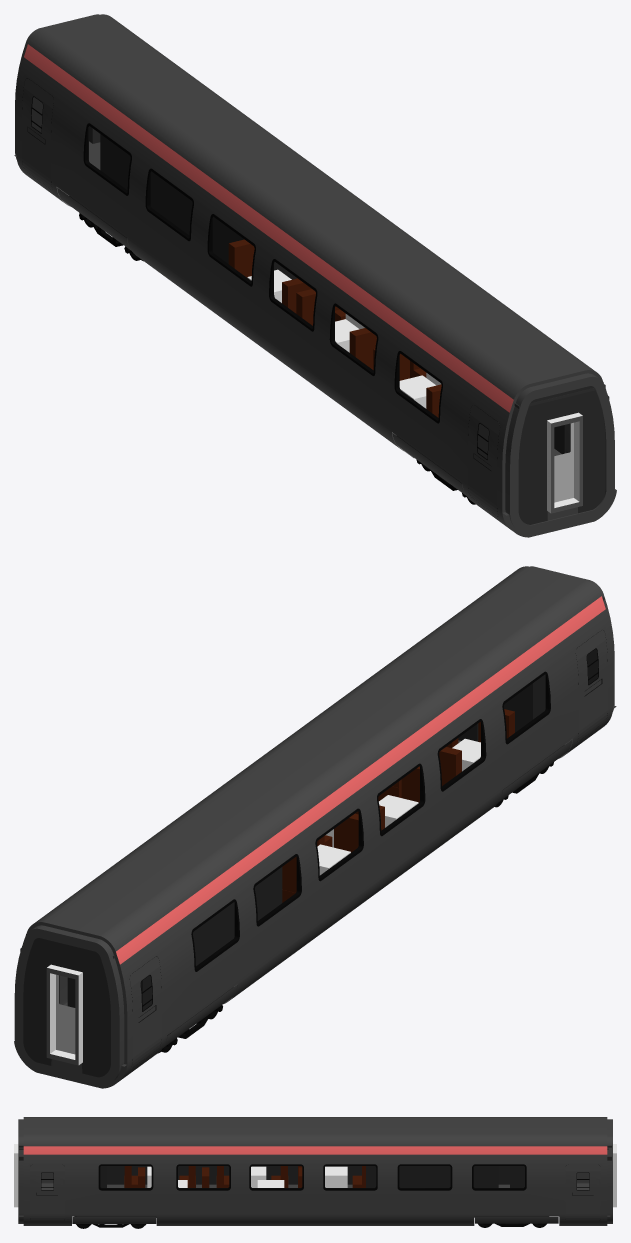
Rendered from hs_diner-car.glb.
3 renders of one model, top to bottom at view 1: azimuth 30°, elevation 25°; view 2: azimuth 150°, elevation 25°; view 3: azimuth 270°, elevation 25°, orthographic. The views are drawn at different scales.
Parts seen in each view (by area): view 1: instance_147, Box (×4), group_0, mesh_10_instance_1, mesh_10_instance_0, Box_6, Box_26, Box_29, Box_4, mesh_14_instance_0, mesh_14_instance_5, mesh_14_instance_1 (+1 smaller); view 2: instance_147, Box (×5), group_0, Box_6, mesh_10_instance_1, mesh_10_instance_0, Box_3, Box_31, mesh_14_instance_0, mesh_14_instance_1, mesh_14_instance_2, mesh_14_instance_5 (+1 smaller); view 3: instance_147, Box, mesh_10_instance_2, Box_6, mesh_10_instance_3, mesh_1_instance_0, mesh_1_instance_1, group_0 (×2), Box_28, mesh_16_instance_0, mesh_16_instance_4, mesh_16_instance_2 (+7 smaller).
Boxes of the visible parts, x1=… form: instance_147: x1=14, y1=14, x2=616, y2=537; Box (×4): x1=518, y1=389, x2=609, y2=524; group_0: x1=547, y1=412, x2=582, y2=513; mesh_10_instance_1: x1=22, y1=78, x2=53, y2=189; mesh_10_instance_0: x1=468, y1=404, x2=499, y2=516; Box_6: x1=150, y1=171, x2=243, y2=263; Box_26: x1=349, y1=328, x2=376, y2=368; Box_29: x1=228, y1=239, x2=254, y2=277; Box_4: x1=100, y1=134, x2=118, y2=182; mesh_14_instance_0: x1=83, y1=123, x2=131, y2=195; mesh_14_instance_5: x1=394, y1=351, x2=442, y2=423; mesh_14_instance_1: x1=145, y1=168, x2=193, y2=241; instance_147: x1=14, y1=566, x2=616, y2=1088; Box (×5): x1=20, y1=933, x2=110, y2=1077; group_0: x1=46, y1=964, x2=82, y2=1065; Box_6: x1=193, y1=867, x2=282, y2=965; mesh_10_instance_1: x1=130, y1=956, x2=161, y2=1067; mesh_10_instance_0: x1=576, y1=630, x2=607, y2=741; Box_3: x1=504, y1=674, x2=545, y2=732; Box_31: x1=334, y1=813, x2=358, y2=852; mesh_14_instance_0: x1=191, y1=899, x2=239, y2=971; mesh_14_instance_1: x1=253, y1=854, x2=301, y2=926; mesh_14_instance_2: x1=315, y1=808, x2=363, y2=881; mesh_14_instance_5: x1=502, y1=671, x2=550, y2=744; instance_147: x1=18, y1=1117, x2=612, y2=1225; Box: x1=107, y1=1166, x2=509, y2=1184; mesh_10_instance_2: x1=565, y1=1164, x2=600, y2=1220; Box_6: x1=399, y1=1166, x2=498, y2=1187; mesh_10_instance_3: x1=30, y1=1164, x2=64, y2=1220; mesh_1_instance_0: x1=72, y1=1217, x2=156, y2=1223; mesh_1_instance_1: x1=475, y1=1217, x2=558, y2=1223; group_0 (×2): x1=14, y1=1144, x2=616, y2=1207; Box_28: x1=325, y1=1166, x2=347, y2=1187; mesh_16_instance_0: x1=98, y1=1164, x2=153, y2=1190; mesh_16_instance_4: x1=397, y1=1164, x2=452, y2=1190; mesh_16_instance_2: x1=249, y1=1164, x2=303, y2=1190.
Size of the model in its own units: 3.5 by 4.71 by 27.38.
